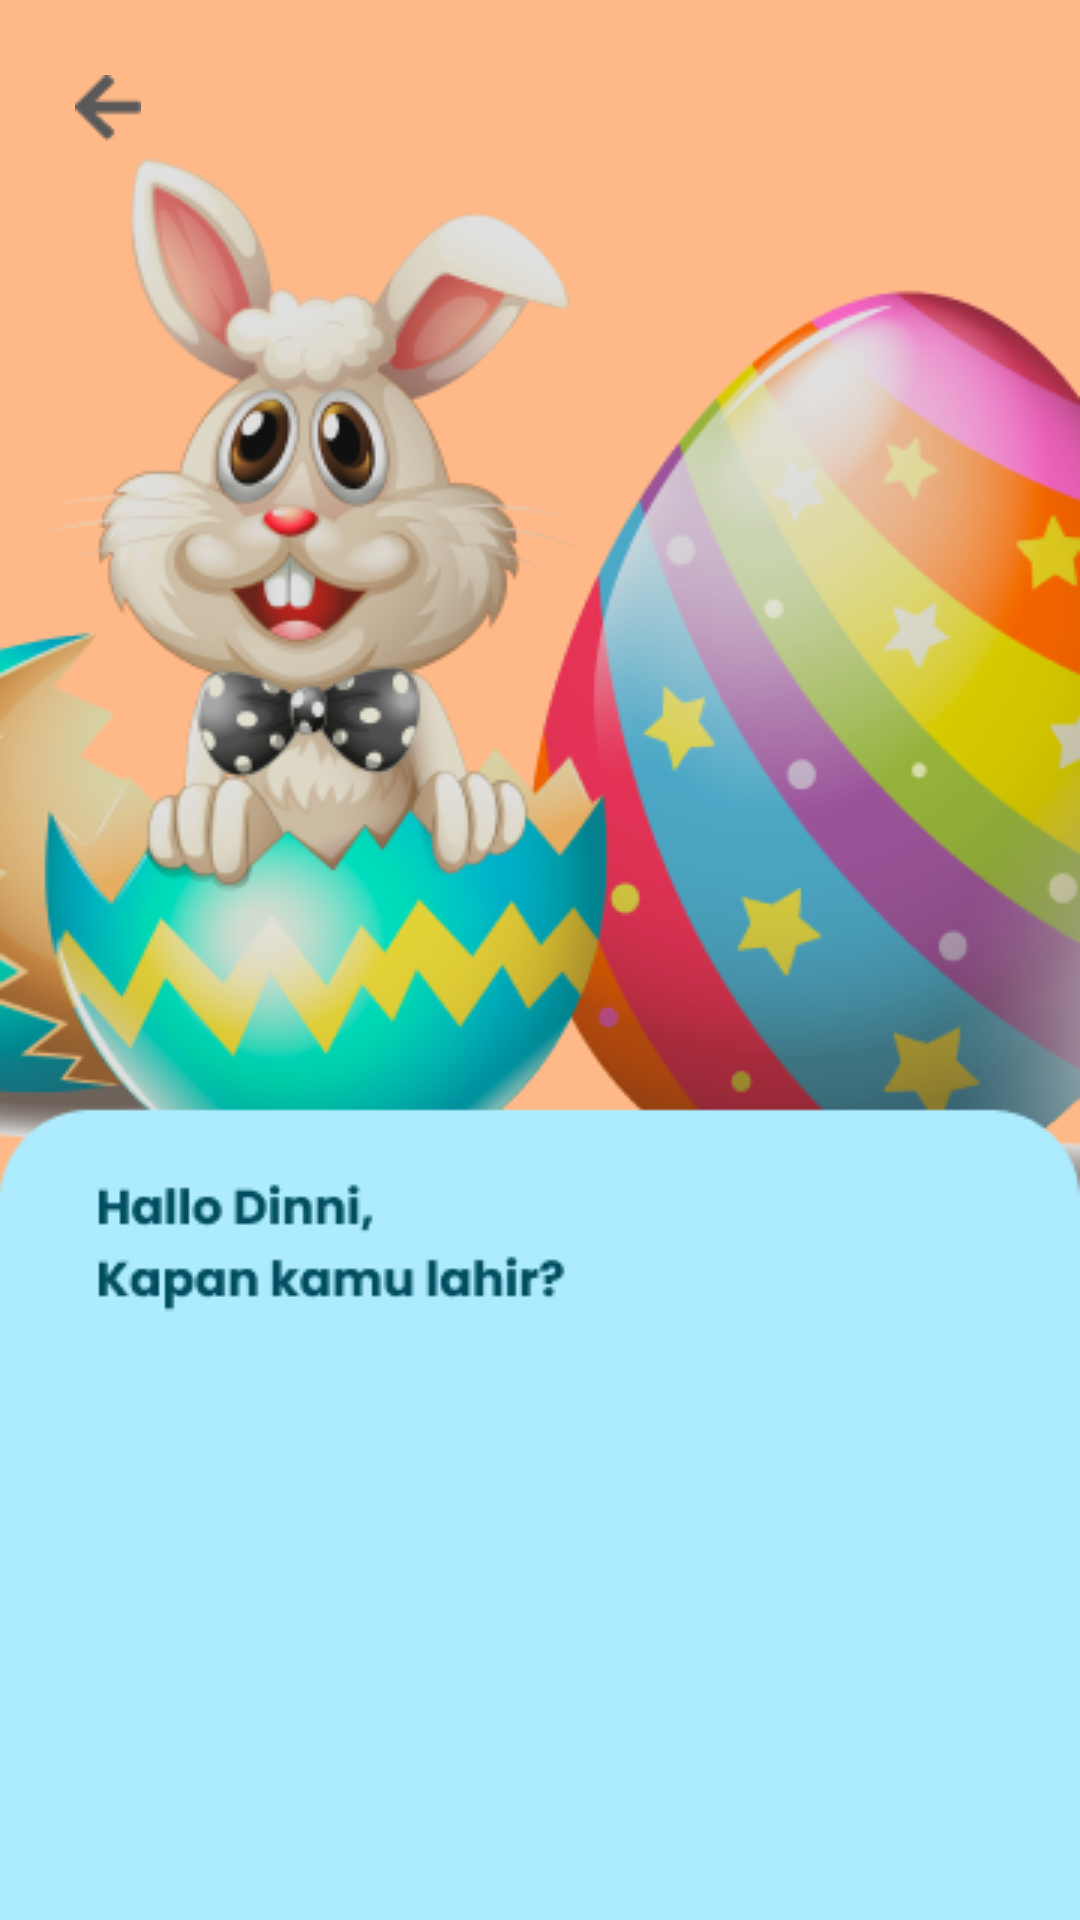

Screen size 1080px×1920px. Icon name, then its center in pixels as (x,y):
back: (108,108)
